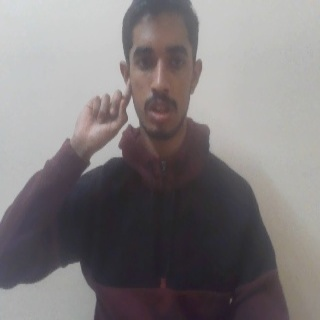Deaf: (61, 77, 131, 154)
Face: (118, 1, 205, 144)
